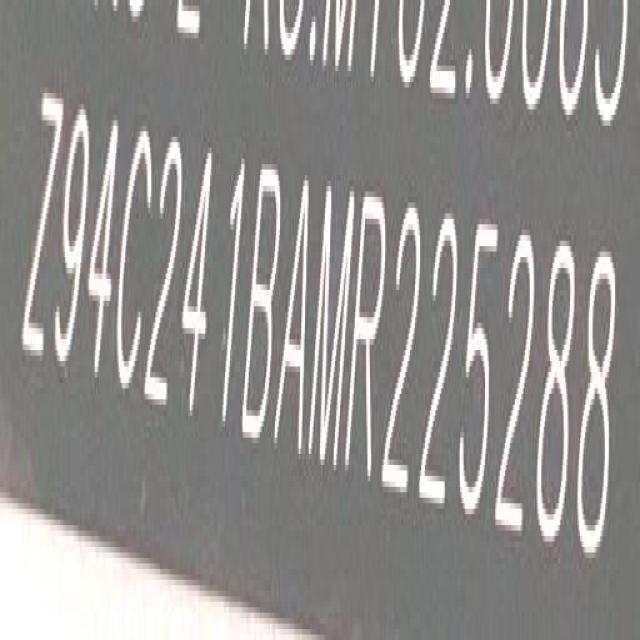1: (215, 158, 246, 438)
2: (499, 229, 540, 541), (422, 208, 462, 519), (385, 199, 425, 504), (146, 136, 183, 416)
4: (86, 109, 121, 389), (182, 140, 216, 424)
5: (458, 215, 498, 526)
8: (581, 258, 620, 562), (540, 244, 578, 553)
9: (54, 103, 92, 380)
A: (274, 168, 316, 454)
B: (242, 164, 284, 446)
C: (114, 120, 156, 402)
M: (308, 182, 352, 474)
R: (345, 192, 388, 490)
Z: (17, 86, 64, 374)
